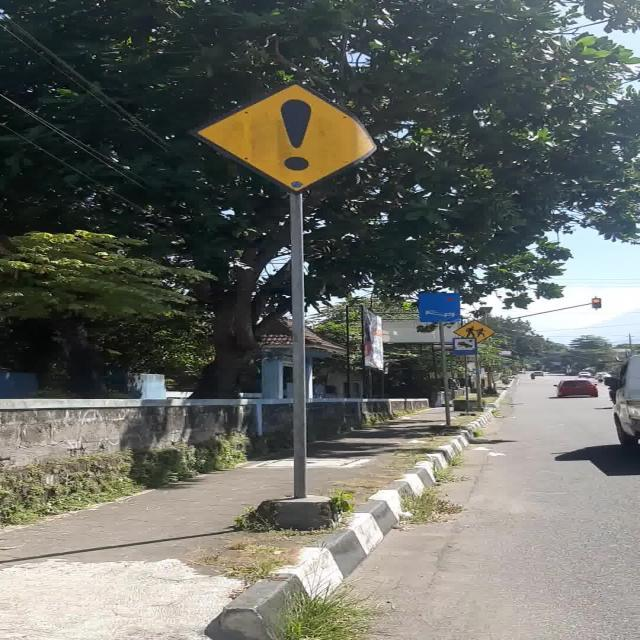Hati-Hati: (188, 81, 376, 196)
